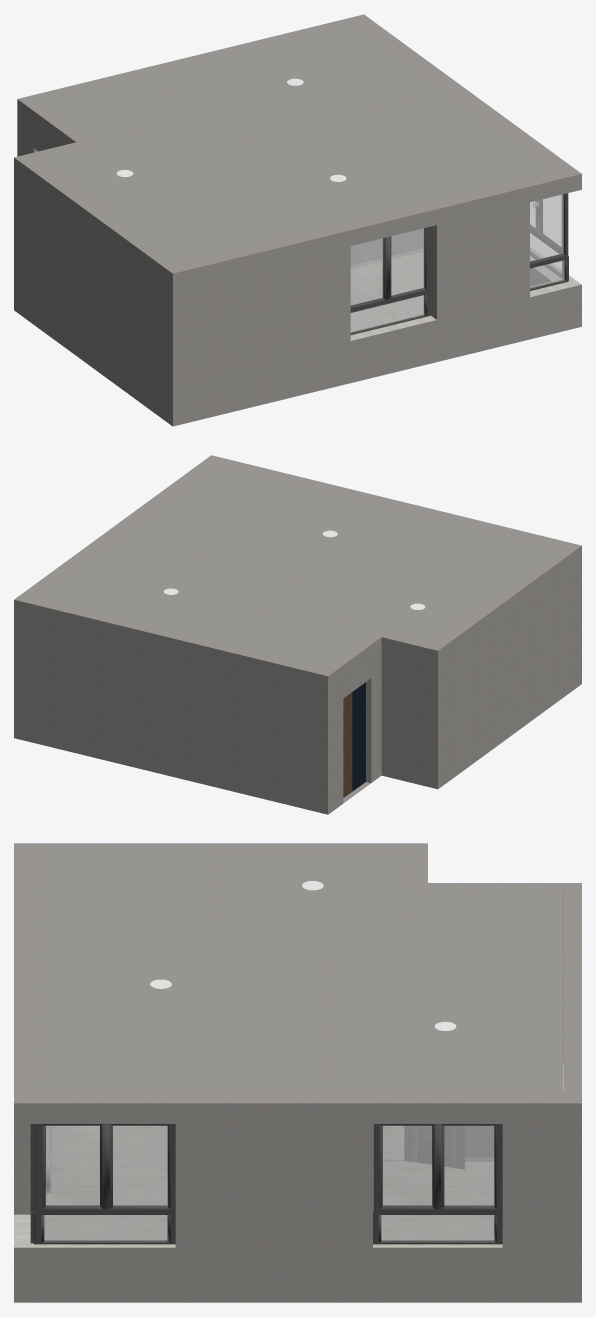
Rendered from apt-1room.glb.
3 renders of one model, top to bottom at view 1: azimuth 30°, elevation 25°; view 2: azimuth 150°, elevation 25°; view 3: azimuth 270°, elevation 25°, orthographic. The views are drawn at different scales.
Visible parts, largest first — view 1: Walls, Ceiling, Floor, B_1_4_2_Interior_Glasss.001, B_1_4_1_Exterior_Glass.001, B_2_4_4_Interior_Glass.002, B_2_4_2_Exterior_Glass..002, B_2_4_3_Interior_Glass..002, B_2_4_1Exterior_Glass.002, B_1_4_2_Interior_Glasss.004, B_1_4_1_Exterior_Glass.004, Walls.002 (+3 smaller); view 2: Walls, Ceiling, Box191; view 3: Ceiling, Walls, Floor, B_2_4_4_Interior_Glass, B_2_4_2_Exterior_Glass., B_2_4_1Exterior_Glass, B_2_4_3_Interior_Glass., B_2_4_4_Interior_Glass.001, B_2_4_2_Exterior_Glass..001, B_2_4_1Exterior_Glass.001, B_2_4_3_Interior_Glass..001, B_1_4_2_Interior_Glasss (+15 smaller).
Part boxes in pixels (x1,y1,x2,y2): Walls: (14,14,581,426); Ceiling: (36,24,551,263); Floor: (351,252,423,329); B_1_4_2_Interior_Glasss.001: (530,194,563,261); B_1_4_1_Exterior_Glass.001: (530,195,563,261); B_2_4_4_Interior_Glass.002: (391,228,423,295); B_2_4_2_Exterior_Glass..002: (391,228,423,295); B_2_4_3_Interior_Glass..002: (351,238,382,305); B_2_4_1Exterior_Glass.002: (351,238,382,305); B_1_4_2_Interior_Glasss.004: (351,295,423,332); B_1_4_1_Exterior_Glass.004: (351,295,423,332); Walls.002: (350,247,581,340); Walls: (14,455,581,814); Ceiling: (38,466,562,668); Box191: (343,682,365,797); Ceiling: (42,849,563,1091); Walls: (14,843,581,1302); Floor: (44,1124,493,1235); B_2_4_4_Interior_Glass: (113,1126,167,1205); B_2_4_2_Exterior_Glass.: (113,1126,167,1205); B_2_4_1Exterior_Glass: (46,1126,99,1205); B_2_4_3_Interior_Glass.: (46,1126,99,1205); B_2_4_4_Interior_Glass.001: (444,1126,493,1205); B_2_4_2_Exterior_Glass..001: (444,1126,493,1205); B_2_4_1Exterior_Glass.001: (383,1126,431,1205); B_2_4_3_Interior_Glass..001: (383,1126,431,1205); B_1_4_2_Interior_Glasss: (44,1215,167,1240).
Size of the model in its own units: 8.12 by 2.92 by 7.5.
38 materials, 11 textured.
